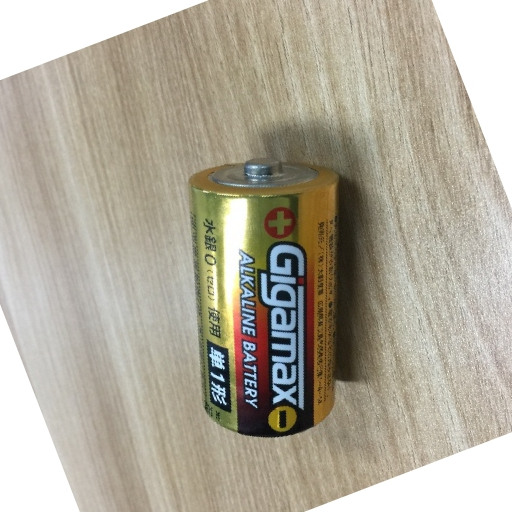Battery_0: (173, 147, 367, 446)
